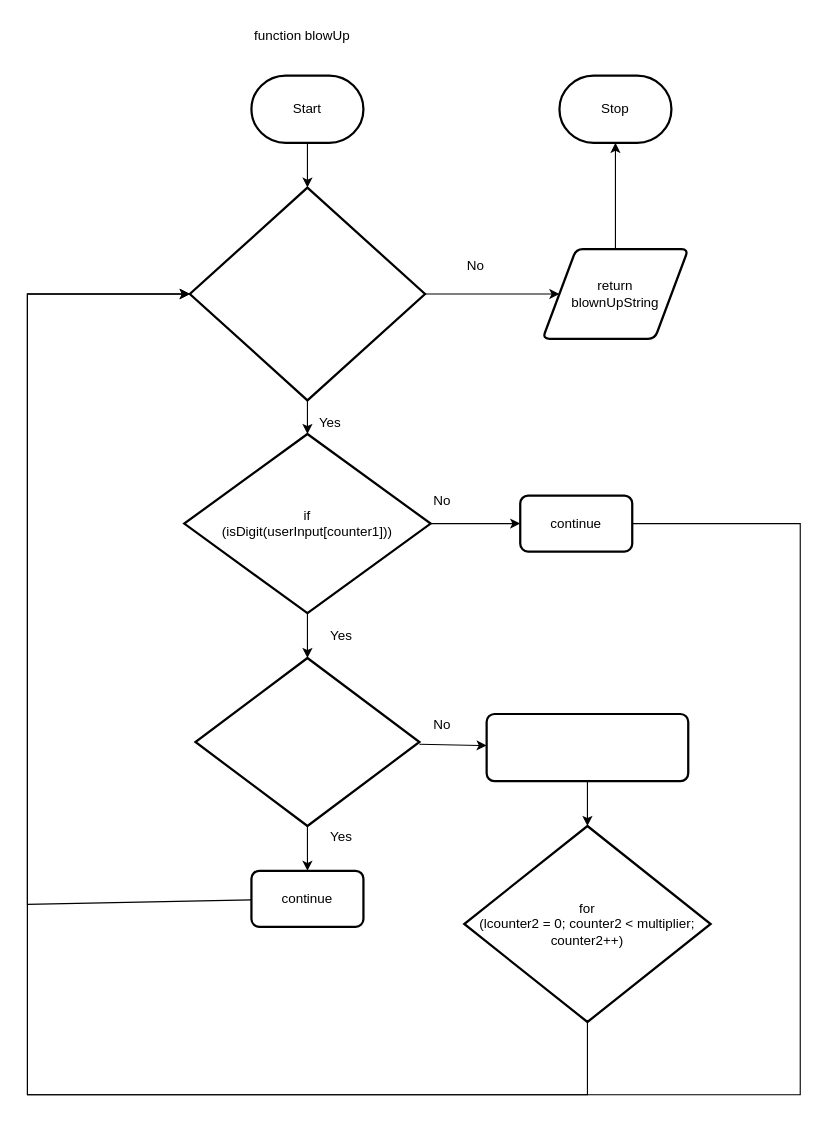
Some shapes in this 829 by 1123 pixel diagram are drawn without their labels. The centre of each missing label's shape, as x and y in pixels:
for (counter1 = 0; counter1 < userInput.length; counter1++): the point at 307,293
if (isDigit(userInput[counter1 + 1])): the point at 307,741
multiplier = parseInt(userInput[counter1]): the point at 587,747
